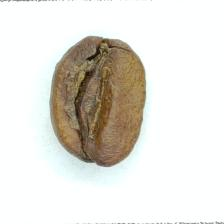NG: (67, 48, 121, 150)
